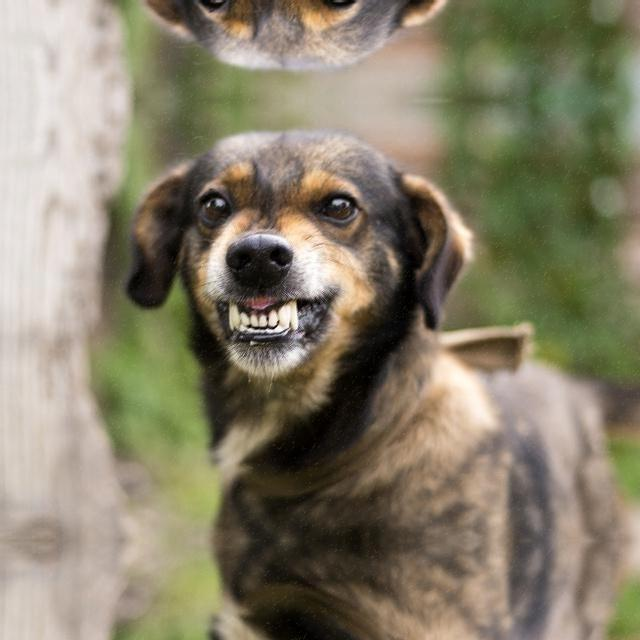dog: (117, 106, 486, 390), (117, 0, 486, 91)
